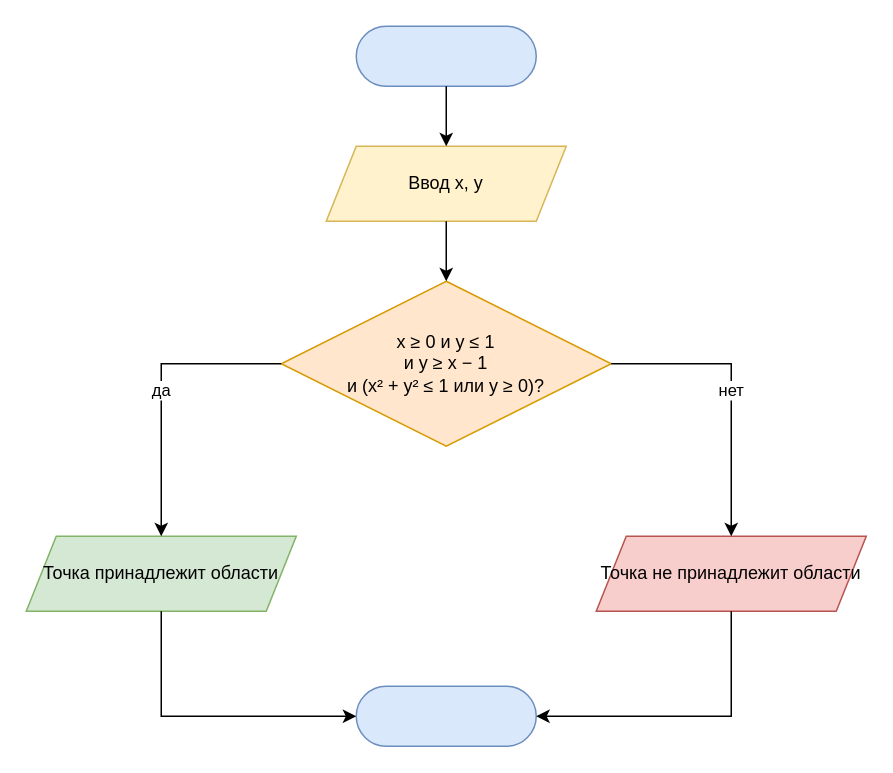
This 893x773 diagram has some shape labels left out. The centre of each missing label's shape, as x and y in pixels:
"Конец" goes at pixel 445 715.
"Начало" goes at pixel 445 55.
